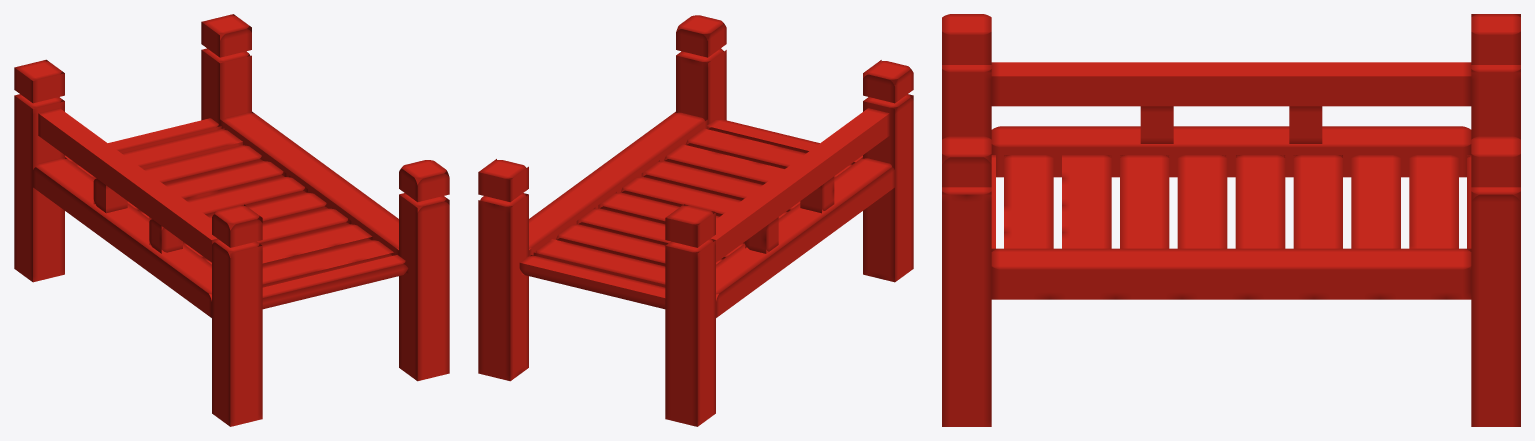
Rendered from bridge_i_2.obj.
The picture shows the model from 3 angles, left to right: view 1: azimuth 30°, elevation 25°; view 2: azimuth 150°, elevation 25°; view 3: azimuth 270°, elevation 25°; orthographic projection. The views are drawn at different scales.
Visible parts, largest first — view 1: cube; view 2: cube; view 3: cube.
Boxes of the visible parts, bbox=[...] form: cube: bbox=[14, 14, 449, 426]; cube: bbox=[478, 15, 913, 426]; cube: bbox=[942, 14, 1520, 426].
Bounding box in the file's own units: 0.6406 × 0.5625 × 1.09.
Materials: 1 (1 with a texture image).
